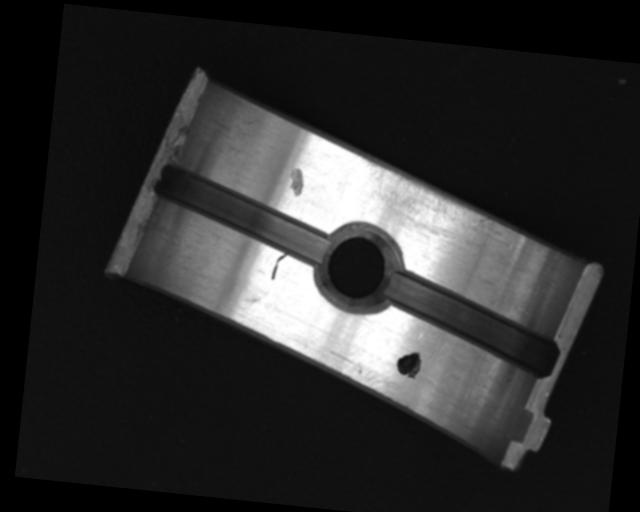blot: (394, 348, 423, 381)
bruise: (287, 165, 306, 199)
gap: (375, 272, 565, 377), (149, 162, 335, 264)
hole: (309, 218, 406, 313)
nick: (270, 251, 288, 281)
scratch: (352, 155, 511, 241)
